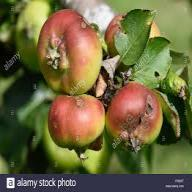apple: (36, 11, 104, 89), (107, 83, 165, 147), (102, 6, 164, 63), (47, 87, 104, 146)
